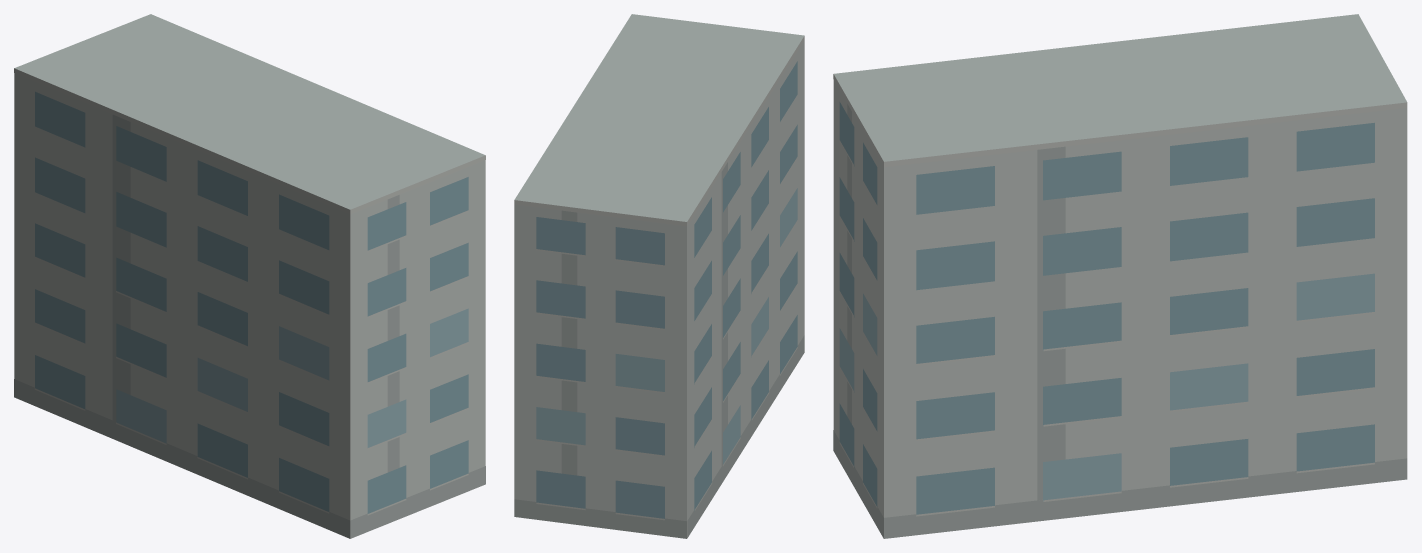
File: survey-upis-32995702.glb
3 renders of one model, left to right at view 1: azimuth 30°, elevation 25°; view 2: azimuth 150°, elevation 25°; view 3: azimuth 270°, elevation 25°, orthographic. The views are drawn at different scales.
Parts seen in each view (by area): view 1: survey-upis-32995702.tmp; view 2: survey-upis-32995702.tmp; view 3: survey-upis-32995702.tmp.
Boxes of the visible parts, x1=… form: survey-upis-32995702.tmp: x1=14, y1=14, x2=485, y2=538; survey-upis-32995702.tmp: x1=514, y1=14, x2=804, y2=538; survey-upis-32995702.tmp: x1=833, y1=14, x2=1407, y2=538.
Size of the model in its own units: 14.26 by 16.95 by 23.39.
